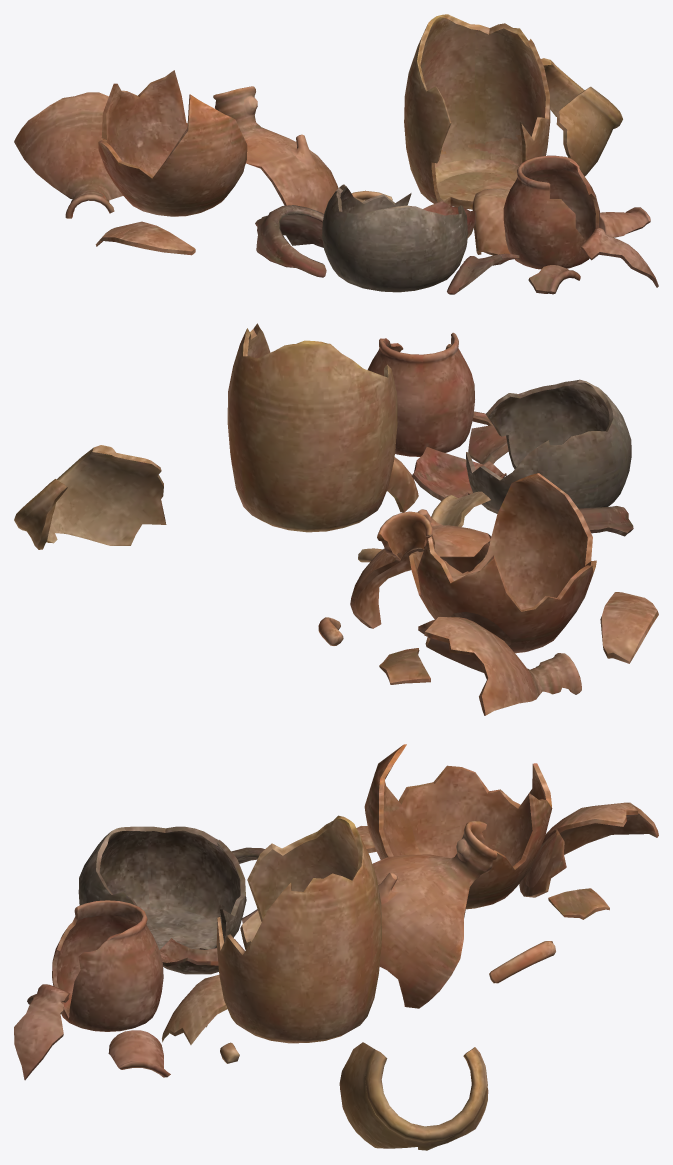
3 views of the same model, one above another, from view 1: azimuth 30°, elevation 25°; view 2: azimuth 150°, elevation 25°; view 3: azimuth 270°, elevation 25° (orthographic). The views are drawn at different scales.
Parts seen in each view (by area): view 1: SM_Pot_Group_01_Dmg_LOD0; view 2: SM_Pot_Group_01_Dmg_LOD0; view 3: SM_Pot_Group_01_Dmg_LOD0.
Part boxes in pixels (box(x1,y1,x2,y2)): SM_Pot_Group_01_Dmg_LOD0: box(14, 14, 658, 294); SM_Pot_Group_01_Dmg_LOD0: box(14, 323, 658, 715); SM_Pot_Group_01_Dmg_LOD0: box(14, 744, 658, 1150).
Bounding box in the file's own units: 1.46 × 0.552 × 1.36.
Materials: 1 (1 with a texture image).
